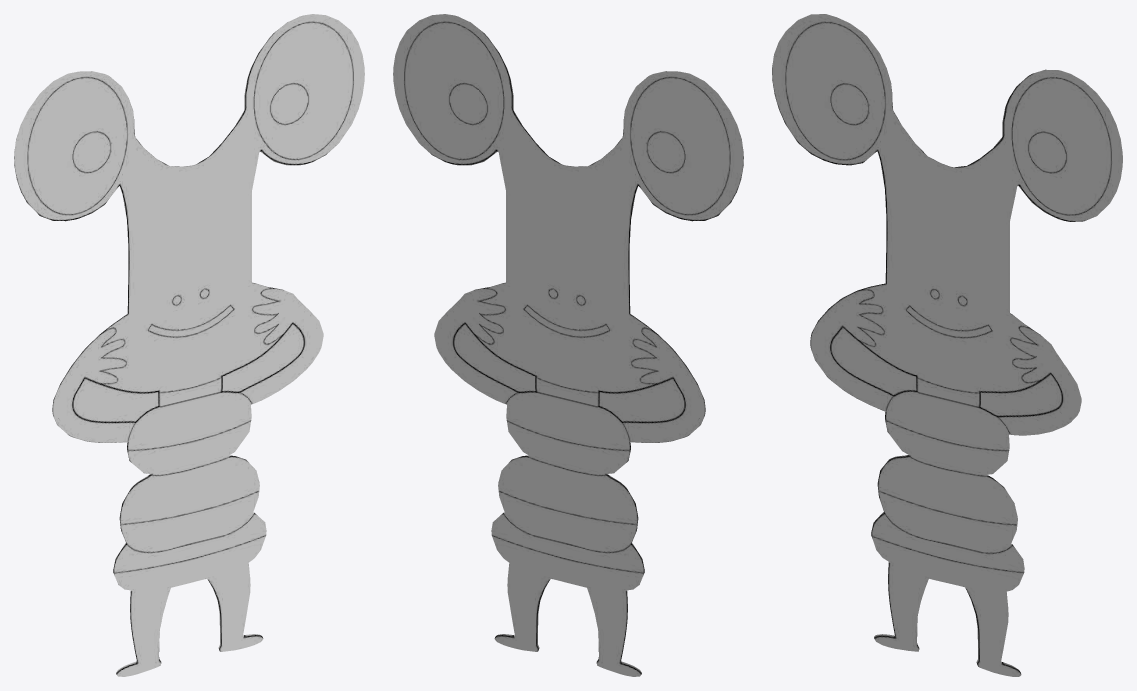
File: 28_suri-01_fix.fbx
3 views of the same model, side by side, from view 1: azimuth 30°, elevation 25°; view 2: azimuth 150°, elevation 25°; view 3: azimuth 330°, elevation 25° (orthographic).
Parts seen in each view (by area): view 1: planarTrimmedSurface16; view 2: planarTrimmedSurface16; view 3: planarTrimmedSurface16.
Part boxes in pixels (x1,y1,x2,y2): planarTrimmedSurface16: (14, 14, 364, 676); planarTrimmedSurface16: (393, 14, 743, 676); planarTrimmedSurface16: (772, 14, 1122, 676).
Bounding box in the file's own units: 10.88 × 18.33 × 2.99e-06.
Materials: 1 (1 with a texture image).
